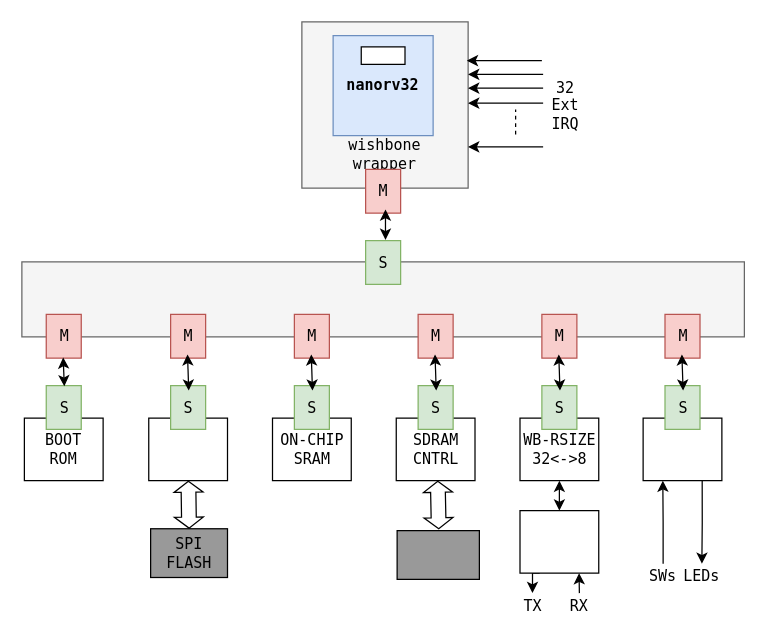
The diagram is 766 pixels wide and 641 high, and some of its shapes have lost their labels. Each missing label, with the box of its shape:
GPIO: (642, 417, 722, 481)
MTIMER: (360, 46, 405, 64)
SDRAM CHIP: (396, 529, 479, 579)
SPI MEMIO: (148, 417, 228, 481)
UART 16550: (519, 509, 599, 573)
Wishbone Interconnect: (21, 261, 744, 337)
